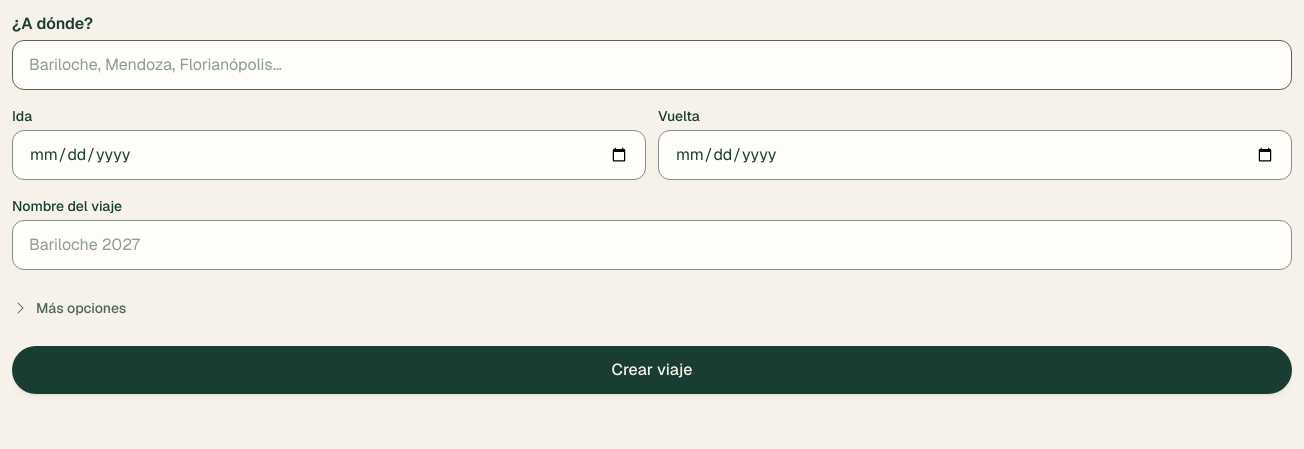
CreateTripForm › shows an error and stays put when the api fails
Type "Bariloche" into the field labelled "Nombre del viaje". click: (652, 245)
box: top-left (12, 220), bottom-right (1292, 270)
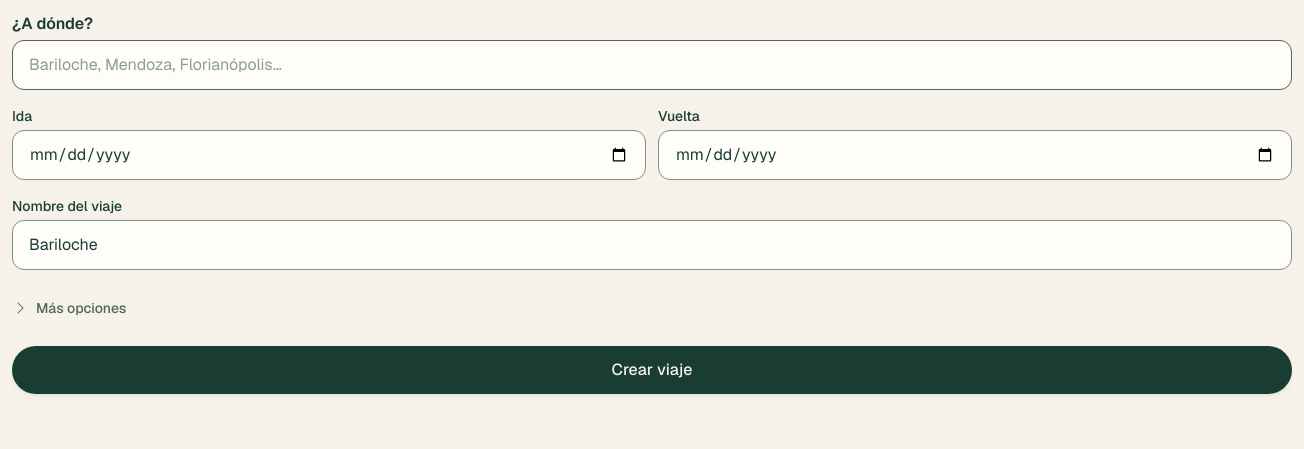
Click the button "Crear viaje". click: (652, 370)
box: top-left (12, 346), bottom-right (1292, 394)
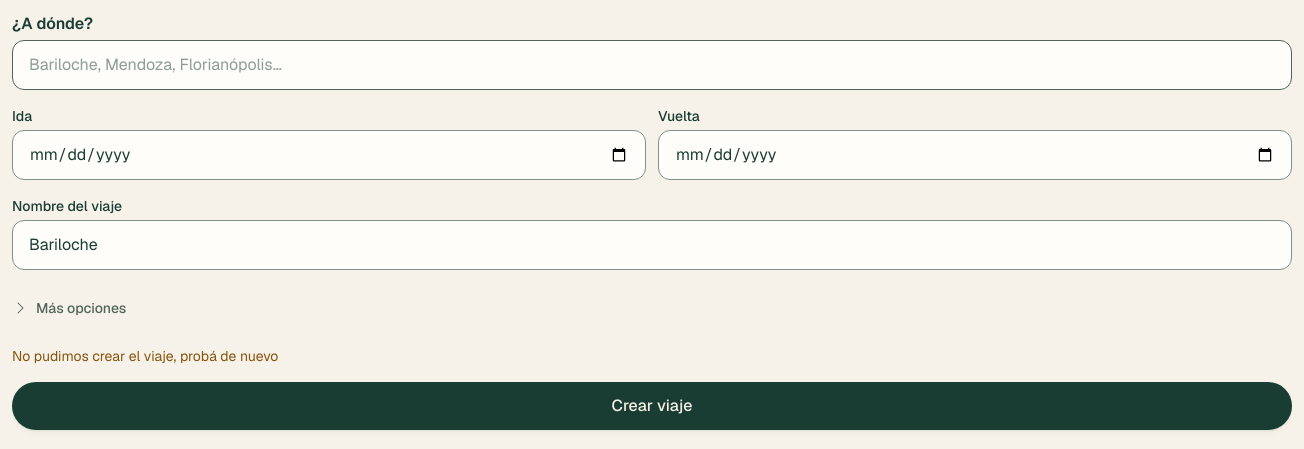
Check: the text "No pudimos crear el viaje, probá de nuevo" is shown, box top-left (12, 347), bottom-right (278, 365)
